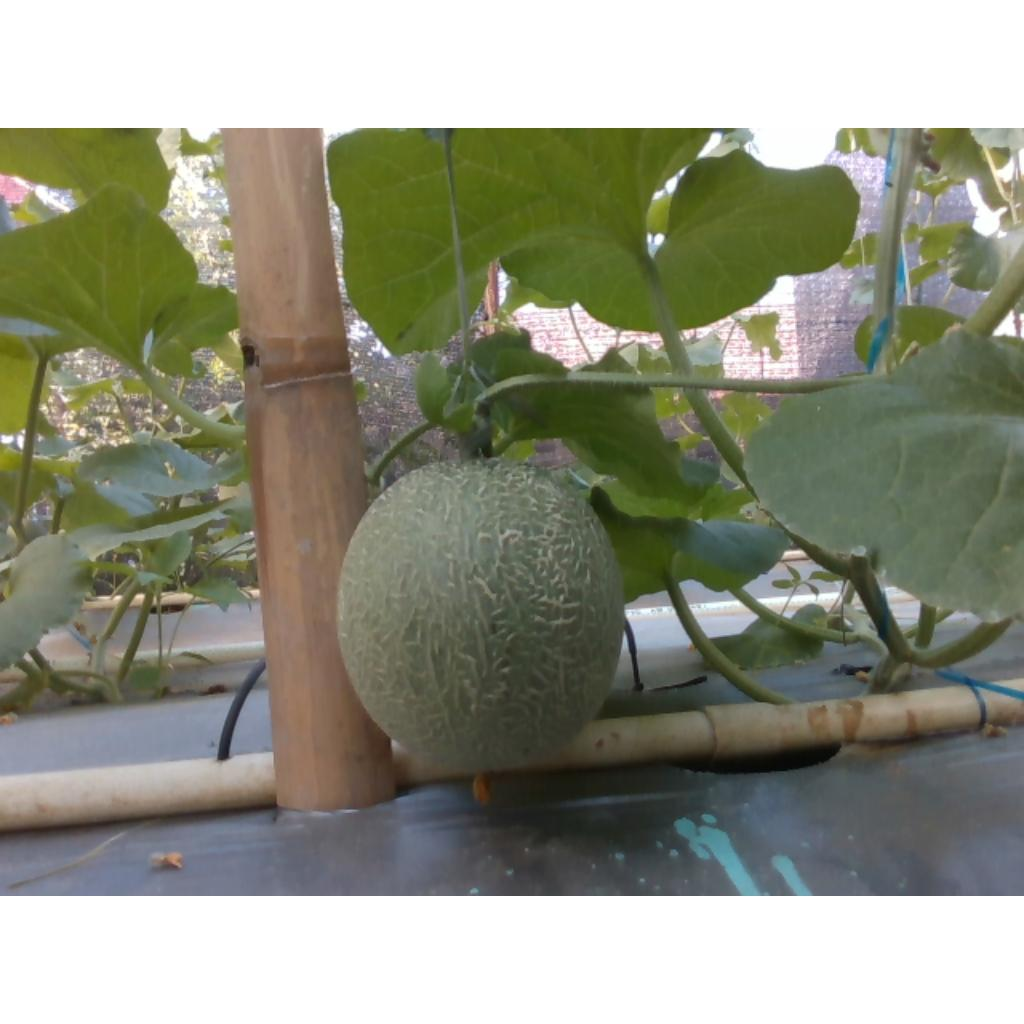melon: (339, 459, 624, 772)
